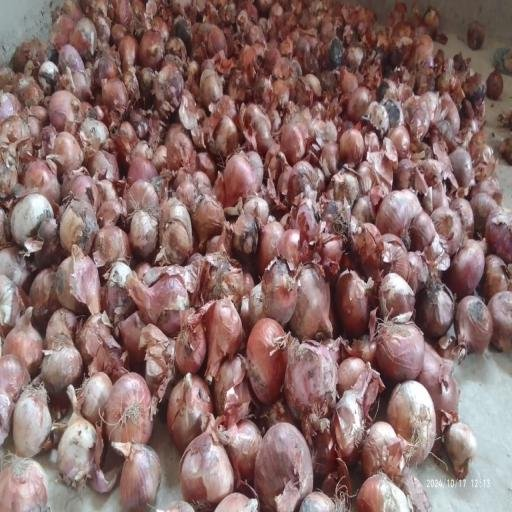damaged: (67, 422, 91, 481), (46, 352, 82, 383)
healthy: (267, 444, 318, 507), (108, 388, 152, 442), (126, 463, 158, 499), (296, 352, 297, 353)
rotten: (16, 192, 58, 266), (295, 352, 332, 430), (192, 440, 236, 494), (211, 286, 237, 364), (346, 394, 370, 456), (151, 289, 192, 317), (148, 73, 182, 106), (423, 292, 450, 327), (328, 205, 354, 240), (386, 104, 407, 138), (232, 224, 258, 250), (326, 40, 347, 68), (42, 70, 60, 96)
